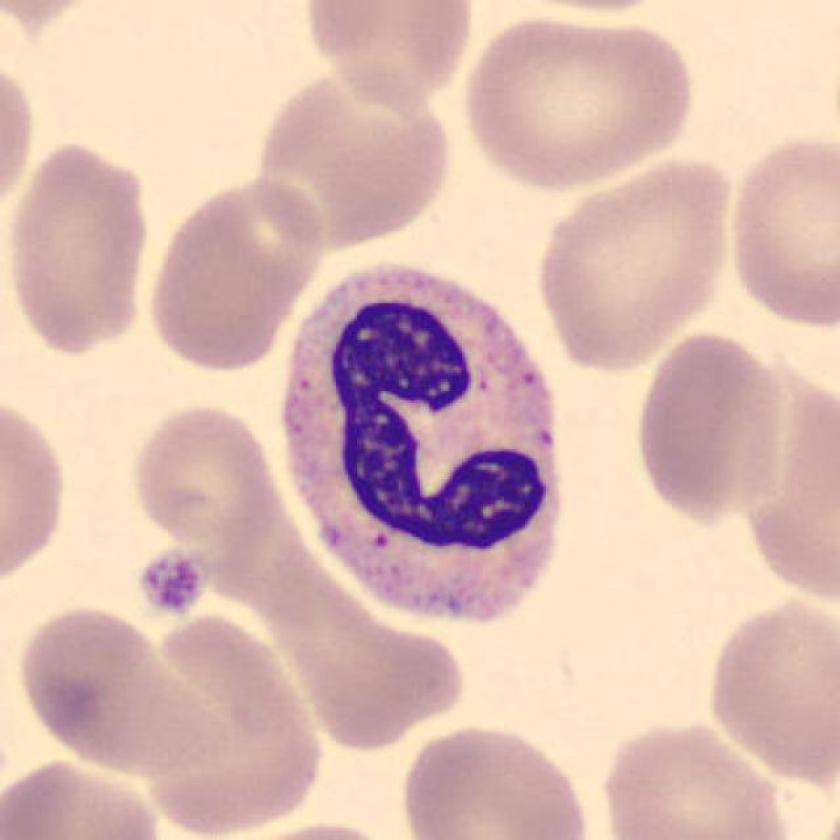neutrophil: (282, 272, 560, 625)
